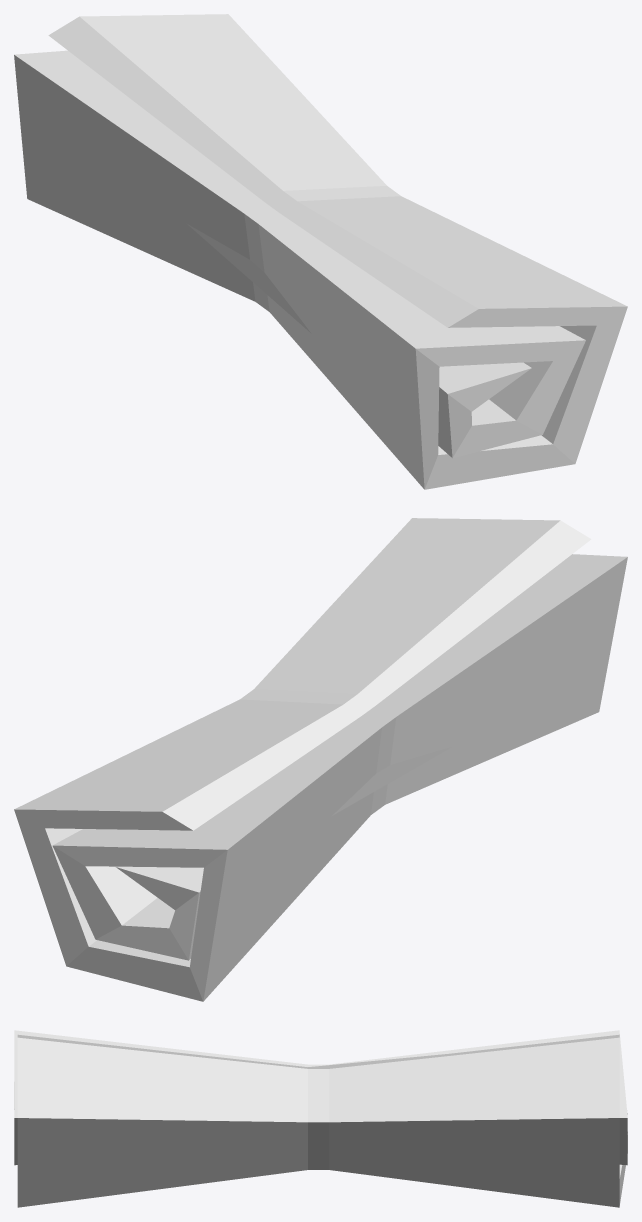
File: paper02.obj
3 renders of one model, top to bottom at view 1: azimuth 30°, elevation 25°; view 2: azimuth 150°, elevation 25°; view 3: azimuth 270°, elevation 25°, orthographic. The views are drawn at different scales.
Parts seen in each view (by area): view 1: Cube_Cube.001; view 2: Cube_Cube.001; view 3: Cube_Cube.001.
Part boxes in pixels (x1,y1,x2,y2): Cube_Cube.001: (14,14,627,489); Cube_Cube.001: (14,518,627,1001); Cube_Cube.001: (14,1030,627,1207).
Bounding box in the file's own units: 0.0468 × 0.0373 × 0.1541.
